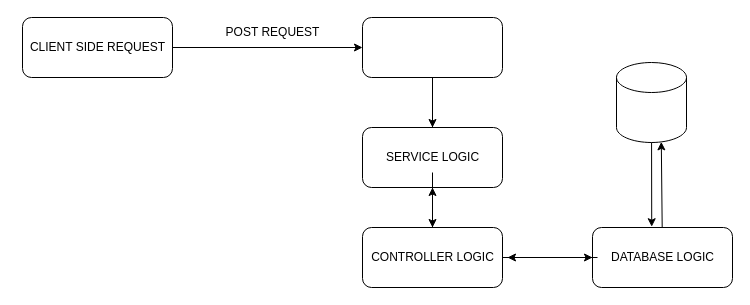
The diagram is 750 pixels wide and 305 high, and some of its shapes have lost their labels. Each missing label, with the box of its shape:
MONGODB: (616, 62, 686, 142)
POST ROUTE: (362, 16, 502, 78)
